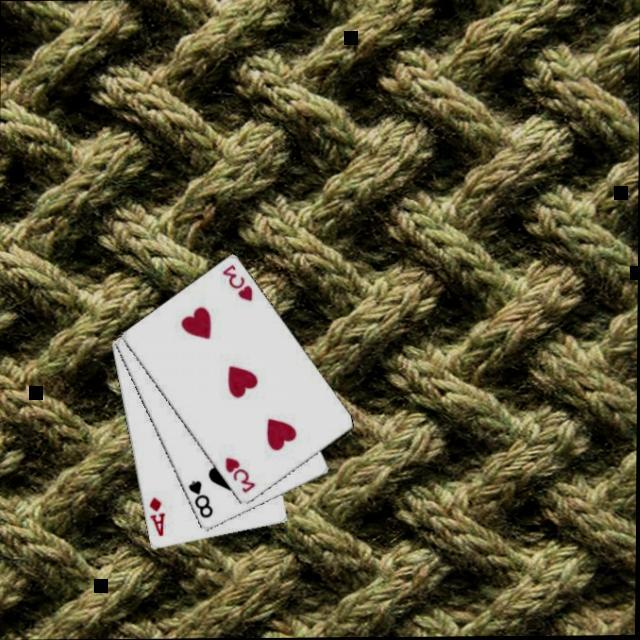3H: (217, 263, 254, 307), (220, 455, 257, 497)
8S: (184, 478, 214, 522)
AD: (144, 496, 166, 540)
